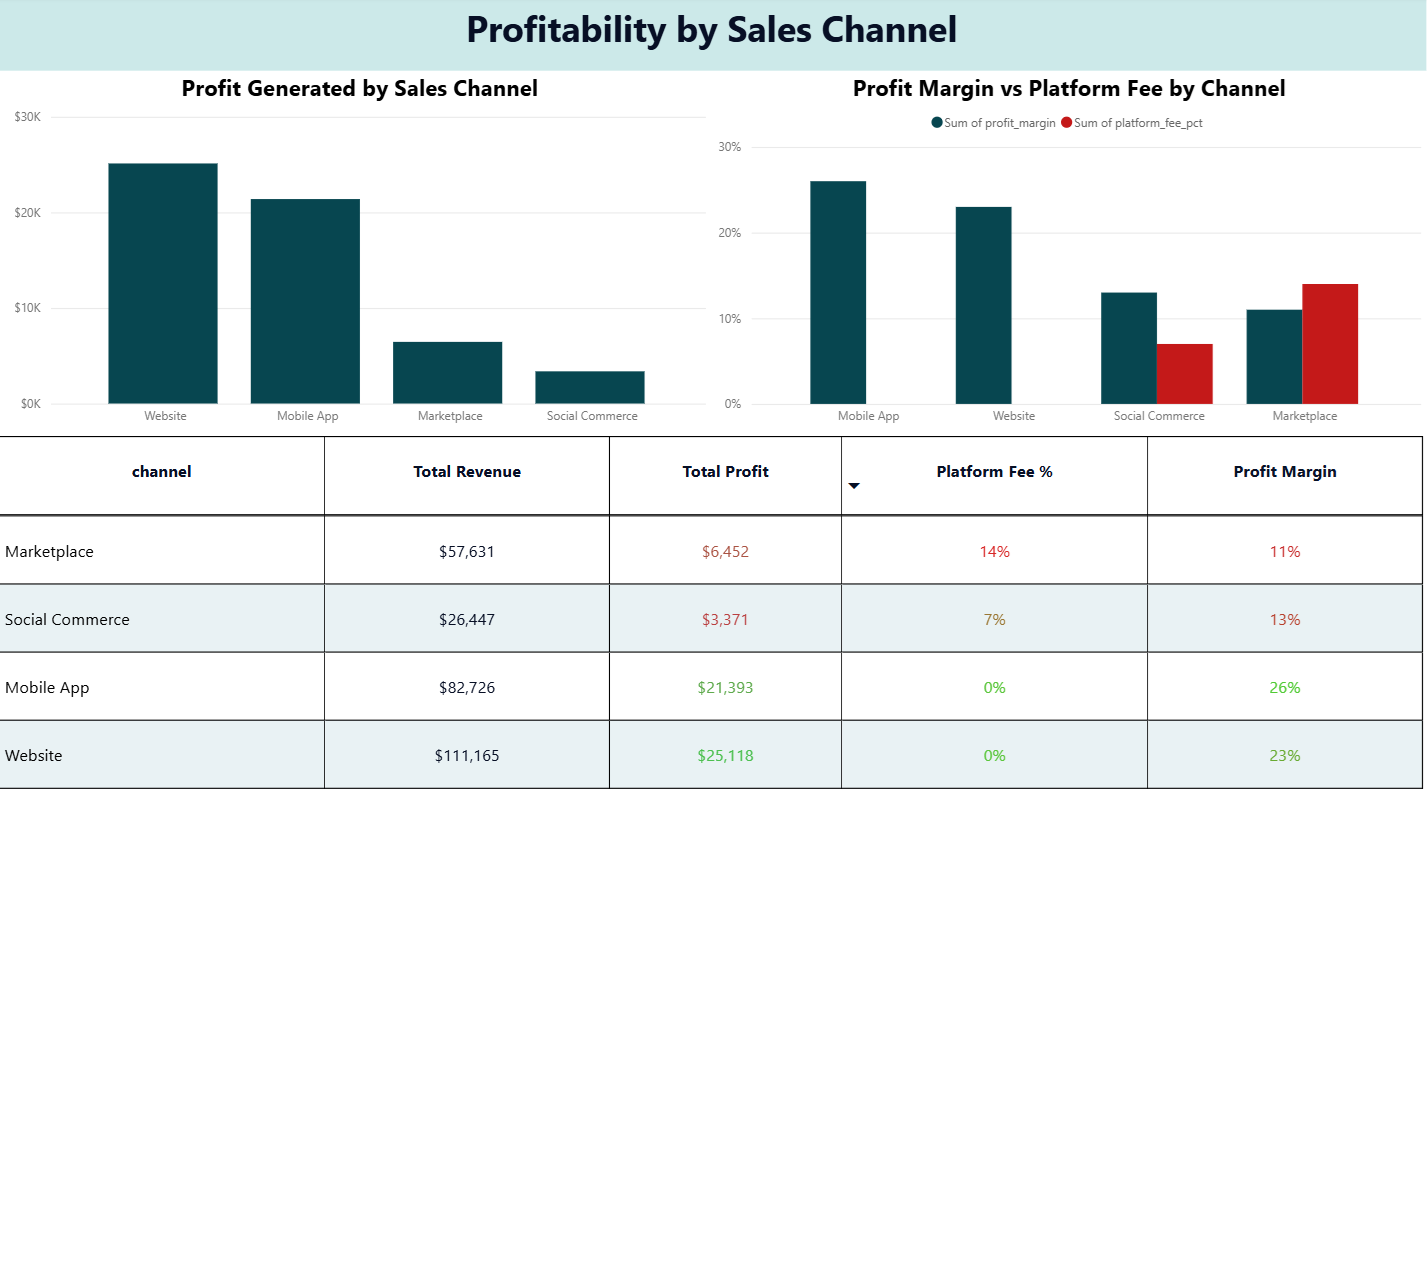

This screenshot's page, from the dashboard's own definition file:
{"tool":"powerbi","page":{"name":"Channel Performance","canvas":[1280,720],"ordinal":1},"visuals":[{"type":"lineClusteredColumnComboChart","title":"Profit Generated by Sales Channel","fields":{"Category":["e_commerce vw_channel_profitability.channel"],"Y":["Sum(e_commerce vw_channel_profitability.total_profit)"]},"box":[9.7,66.1,630.3,326.8],"z":0},{"type":"clusteredColumnChart","title":"Profit Margin vs Platform Fee by Channel","fields":{"Category":["e_commerce vw_channel_profitability.channel"],"Y":["Sum(e_commerce vw_channel_profitability.profit_margin)","Sum(e_commerce vw_channel_profitability.platform_fee_pct)"]},"box":[640,66.1,640,326.8],"z":1000},{"type":"tableEx","fields":{"Values":["e_commerce vw_channel_profitability.channel","Sum(e_commerce vw_channel_profitability.total_revenue)","Sum(e_commerce vw_channel_profitability.total_profit)","Sum(e_commerce vw_channel_profitability.platform_fee_pct)","Sum(e_commerce vw_channel_profitability.profit_margin)"]},"box":[0,393.1,1279.7,326.9],"z":2000},{"type":"textbox","box":[0,0,1280,66.1],"z":2001}]}

Visuals, with their boxes on the page's 1280x720 design canvas (x1, y1, x2, y2). These are canvas units, not pixel positions in the 1427x1262 screenshot, which may show the page scaled, cropped or inside an application window:
"Profit Generated by Sales Channel" lineClusteredColumnComboChart: 10,66,640,393
"Profit Margin vs Platform Fee by Channel" clusteredColumnChart: 640,66,1280,393
tableEx - e_commerce vw_channel_profitability.channel x Sum(e_commerce vw_channel_profitability.total_revenue): 0,393,1280,720
textbox: 0,0,1280,66
